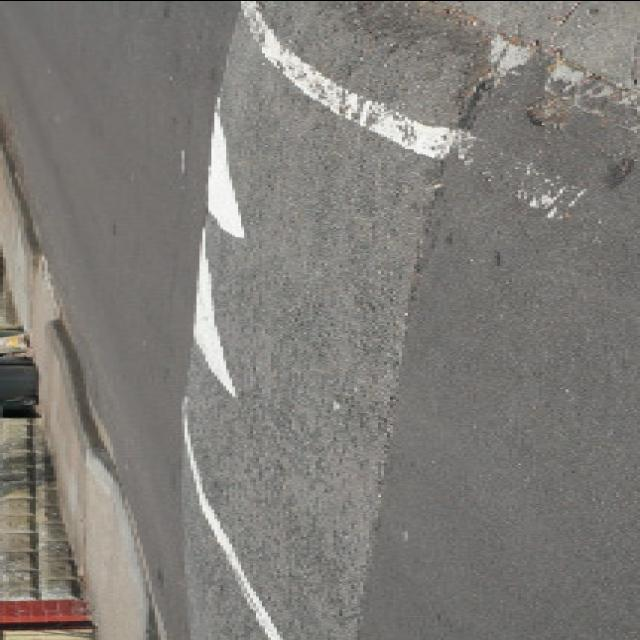speedbreaker: (161, 0, 456, 640)
